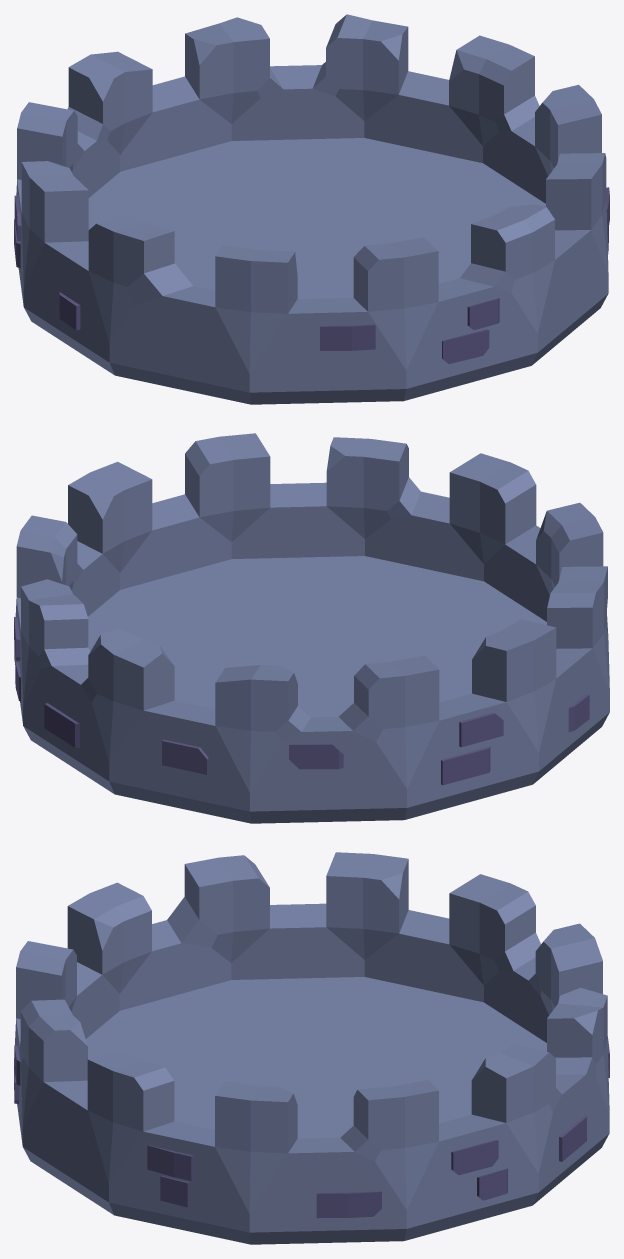
The model's file is Wall_Tower_Top_01.fbx.
3 renders of one model, top to bottom at view 1: azimuth 30°, elevation 25°; view 2: azimuth 150°, elevation 25°; view 3: azimuth 270°, elevation 25°, orthographic.
Parts seen in each view (by area): view 1: Wall_Tower_Top_01; view 2: Wall_Tower_Top_01; view 3: Wall_Tower_Top_01.
Part boxes in pixels (x1,y1,x2,y2): Wall_Tower_Top_01: [14, 14, 609, 404]; Wall_Tower_Top_01: [14, 433, 609, 823]; Wall_Tower_Top_01: [14, 852, 609, 1244].
Size of the model in its own units: 1462 by 412 by 1463.
